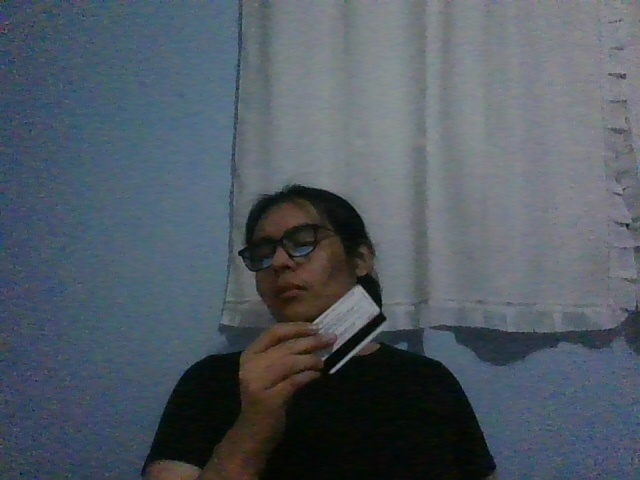tarjeta: (310, 284, 389, 375)
